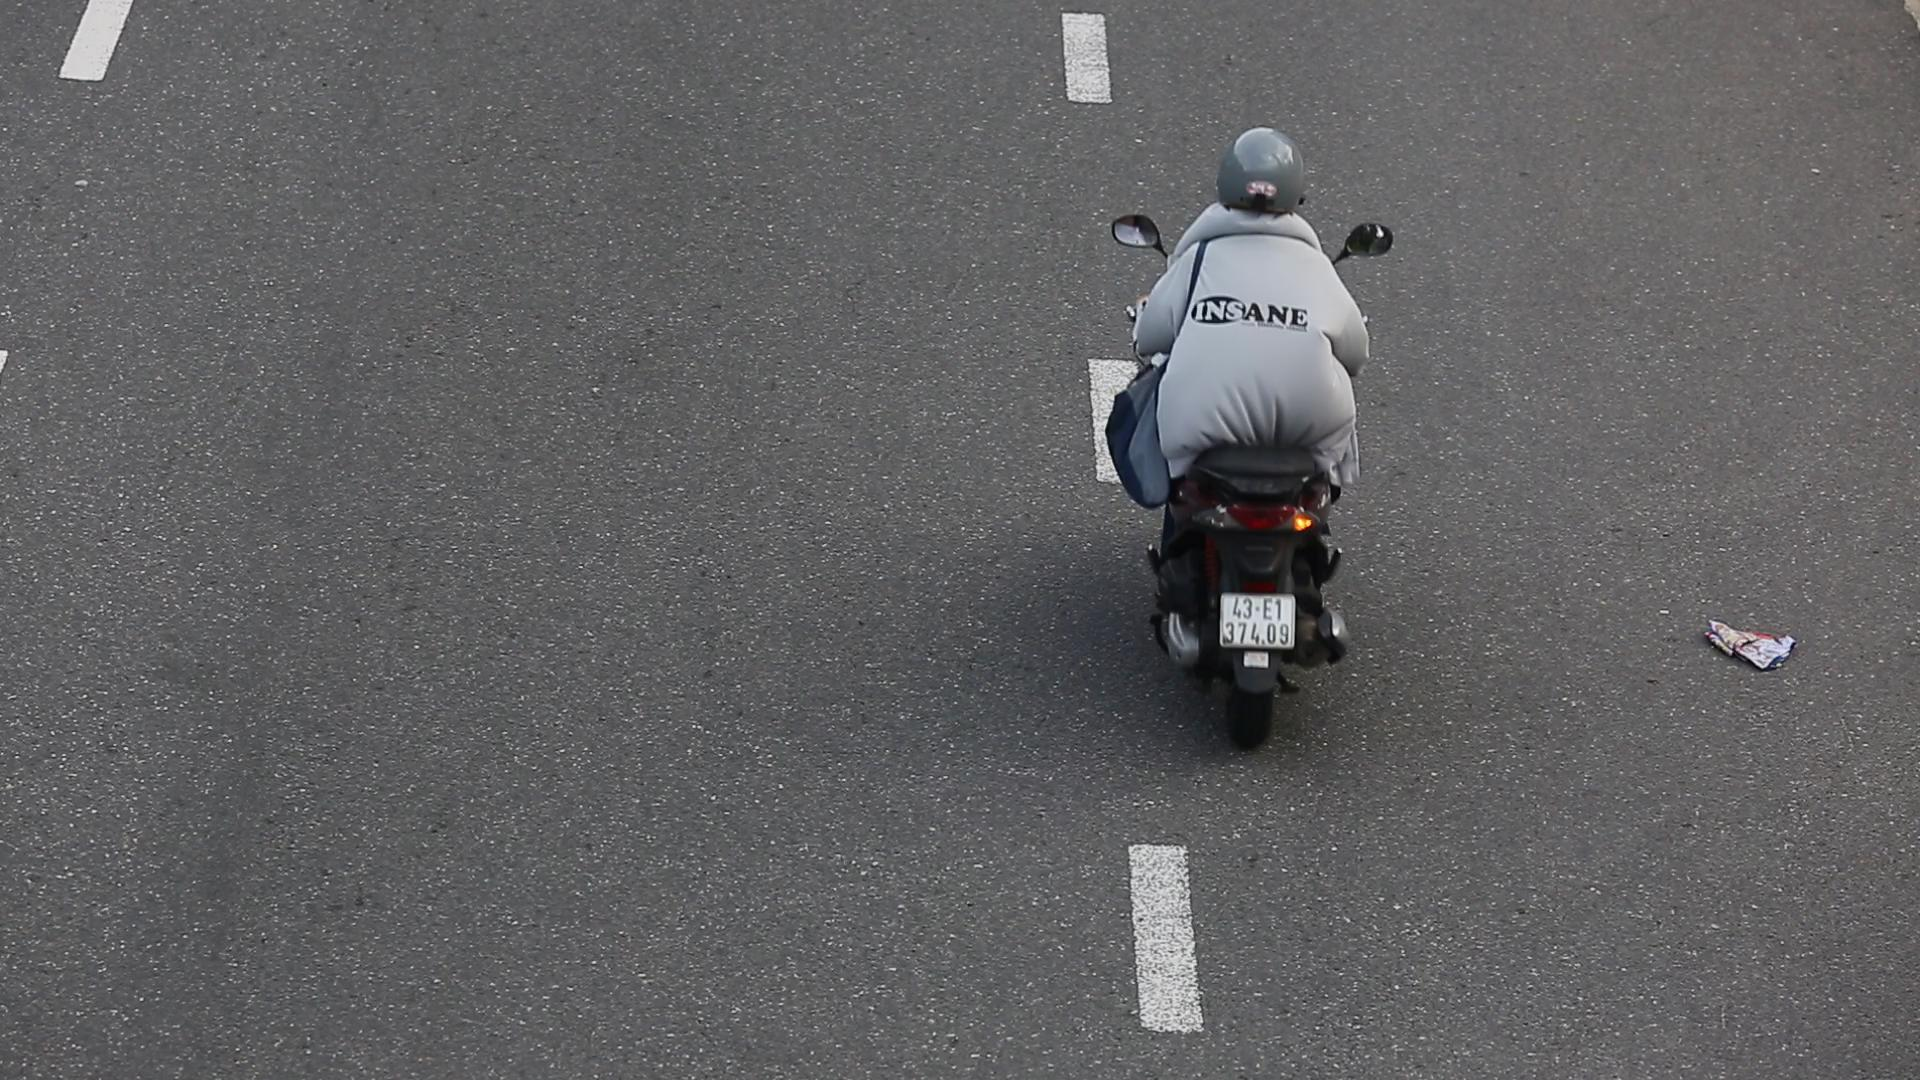motobike: (1071, 105, 1406, 754)
